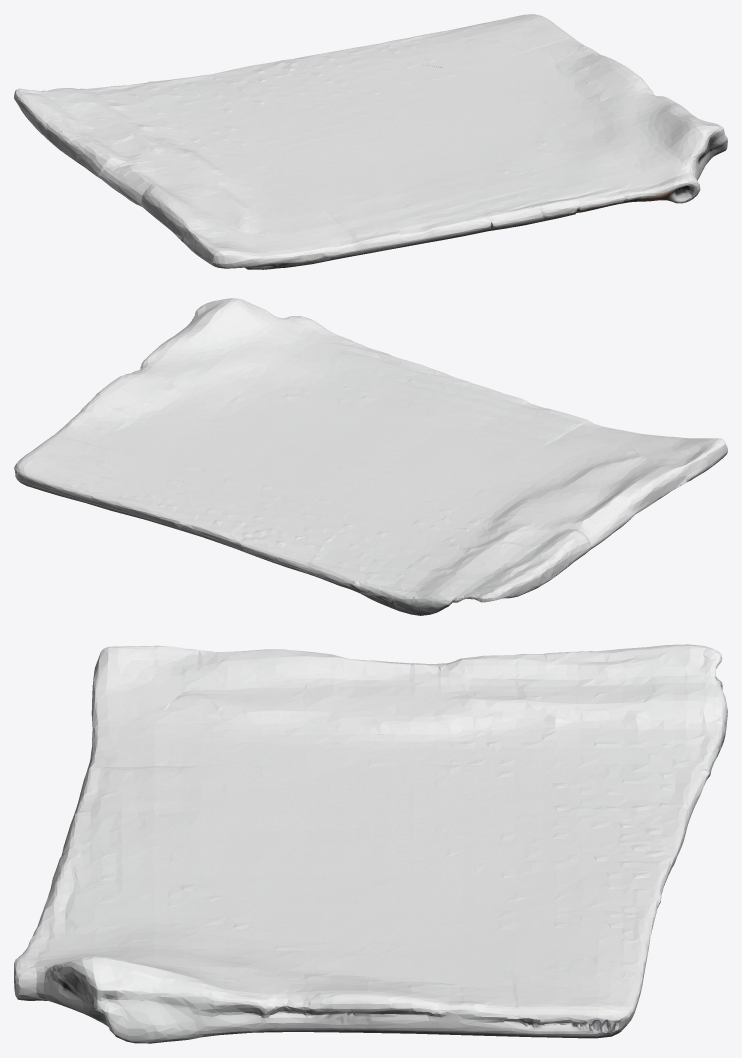
The picture shows the model from 3 angles, top to bottom: view 1: azimuth 30°, elevation 25°; view 2: azimuth 150°, elevation 25°; view 3: azimuth 270°, elevation 25°; orthographic projection. The views are drawn at different scales.
Parts seen in each view (by area): view 1: world; view 2: world; view 3: world.
Boxes of the visible parts, bbox=[...] form: world: bbox=[14, 14, 727, 269]; world: bbox=[14, 298, 727, 615]; world: bbox=[14, 644, 727, 1043].
Bounding box in the file's own units: 0.9996 × 0.0889 × 0.84.
1 material, 1 textured.
